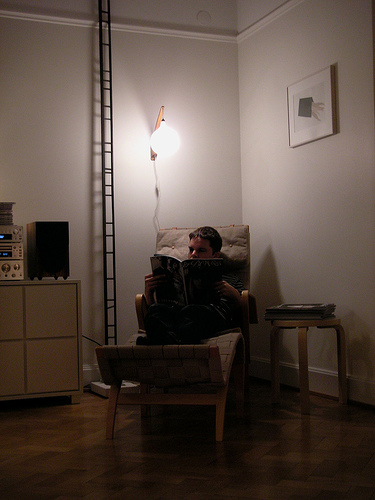without_mask: (186, 232, 223, 270)
